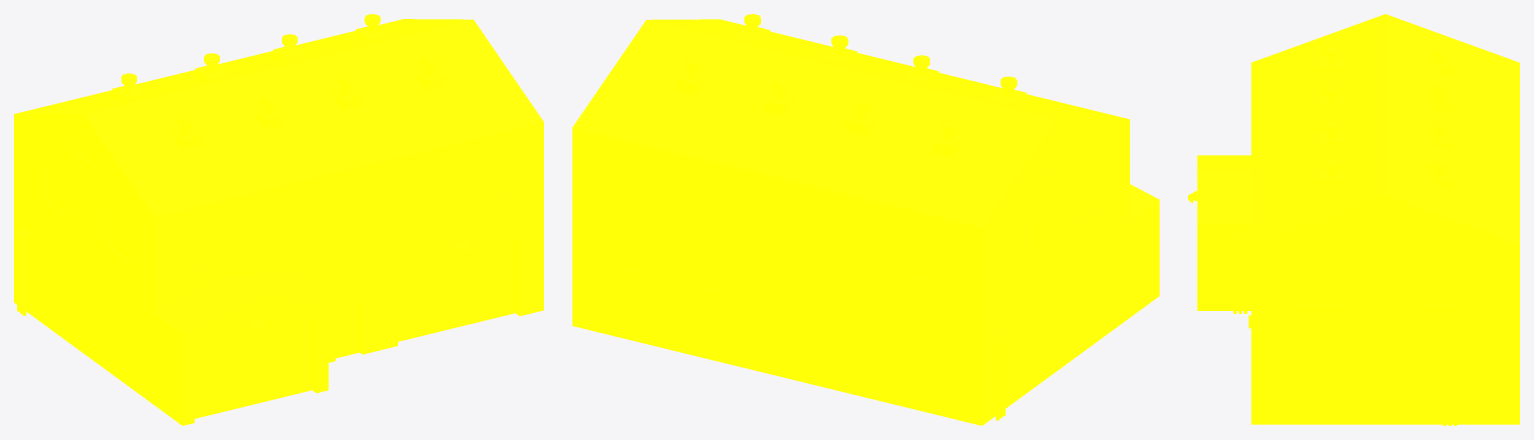
File: industry-building.glb
3 renders of one model, left to right at view 1: azimuth 30°, elevation 25°; view 2: azimuth 150°, elevation 25°; view 3: azimuth 270°, elevation 25°, orthographic. The views are drawn at different scales.
Parts seen in each view (by area): view 1: industry-building; view 2: industry-building; view 3: industry-building.
Boxes of the visible parts, x1,y1,x2,y2 form: industry-building: (14, 14, 543, 425); industry-building: (572, 14, 1159, 425); industry-building: (1188, 14, 1519, 425).
Bounding box in the file's own units: 16.41 × 9.49 × 12.35.
1 material, 1 textured.
